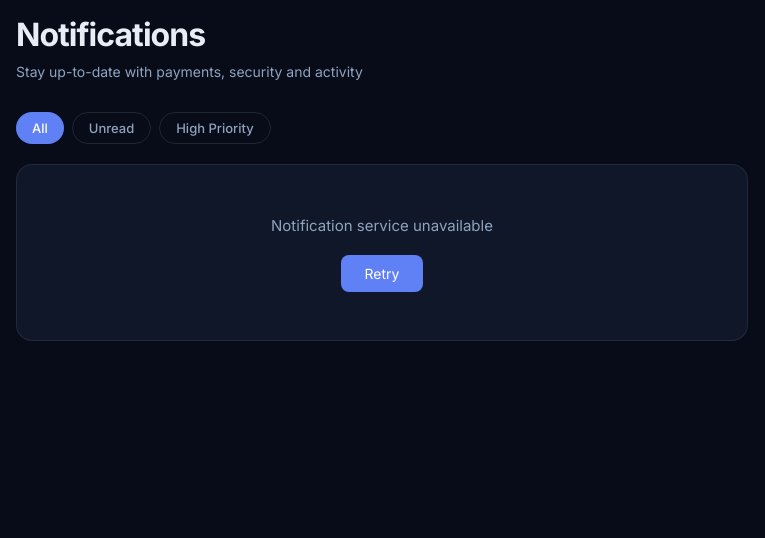
Notifications › error state › retries fetch on Retry click
Click the button "Retry".
click(382, 273)  # box [340,255,423,292]
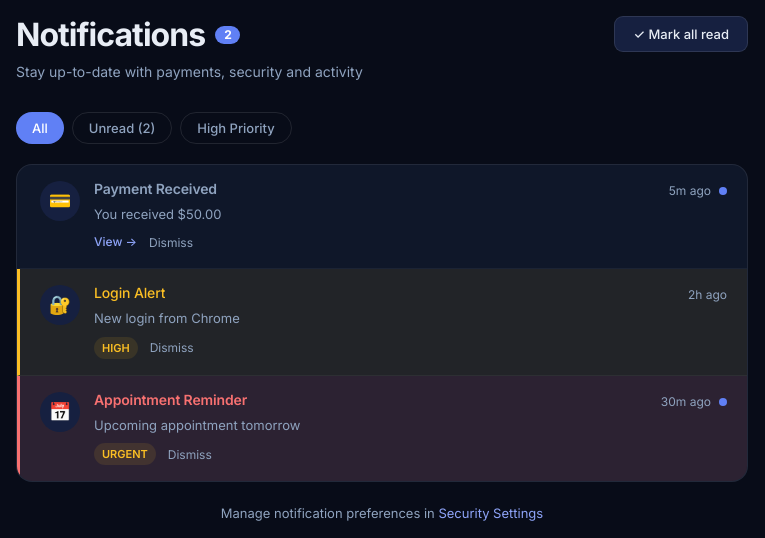
Now the heading "Payment Received" is shown, box [94,181,217,198]
